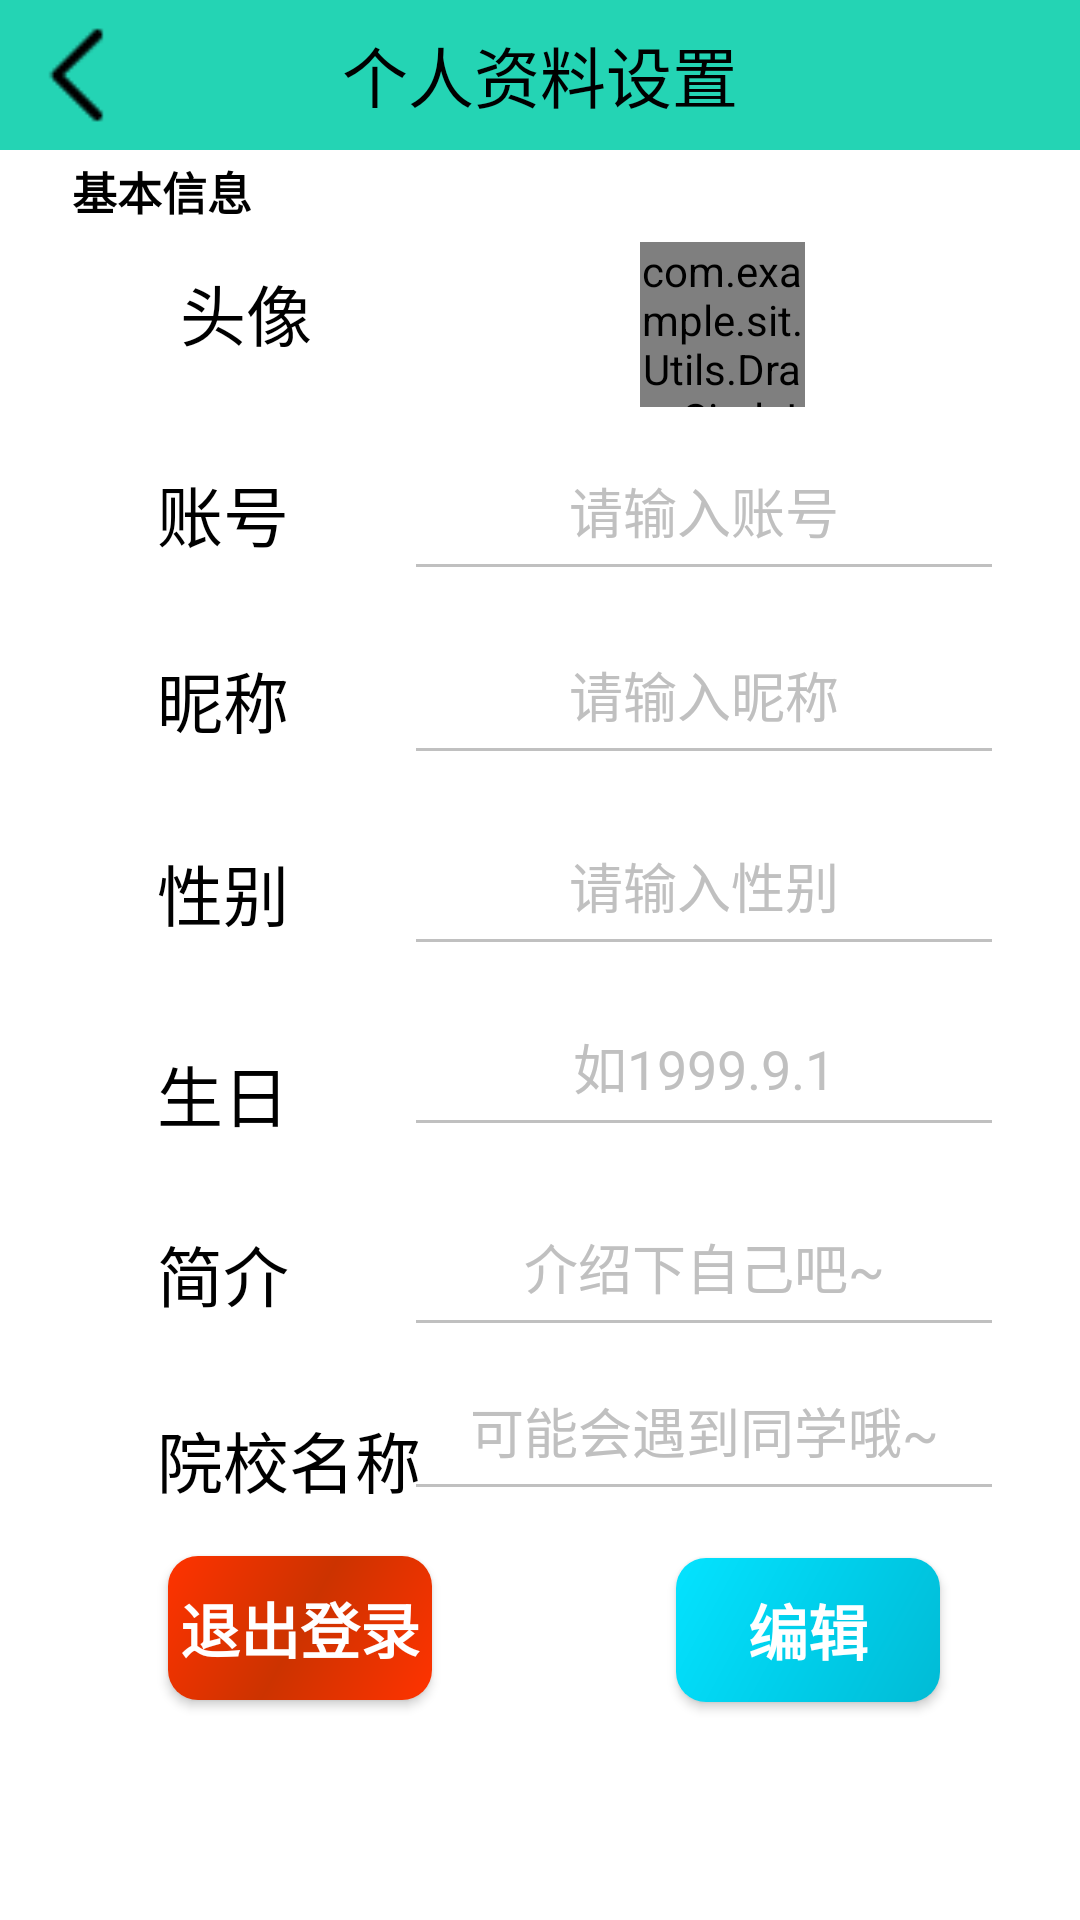

Named icons in this screenshot (1080×1920) and their centers, [x,y]:
back: [76,75]
